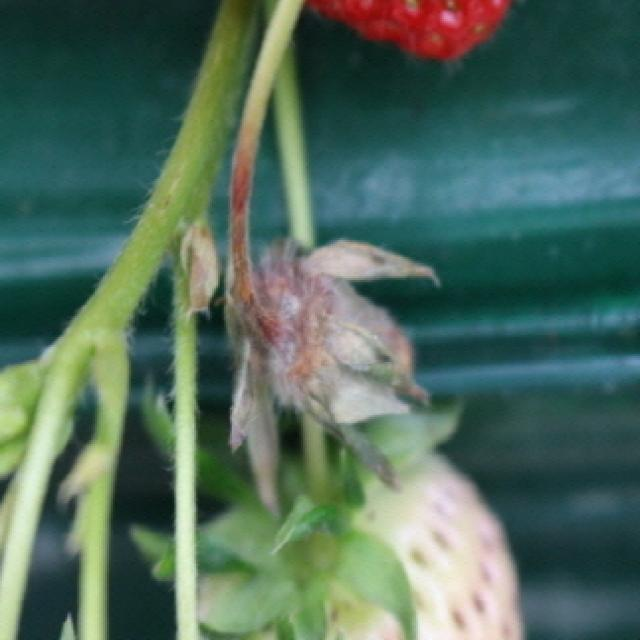Gray Mold: (223, 227, 443, 511)
